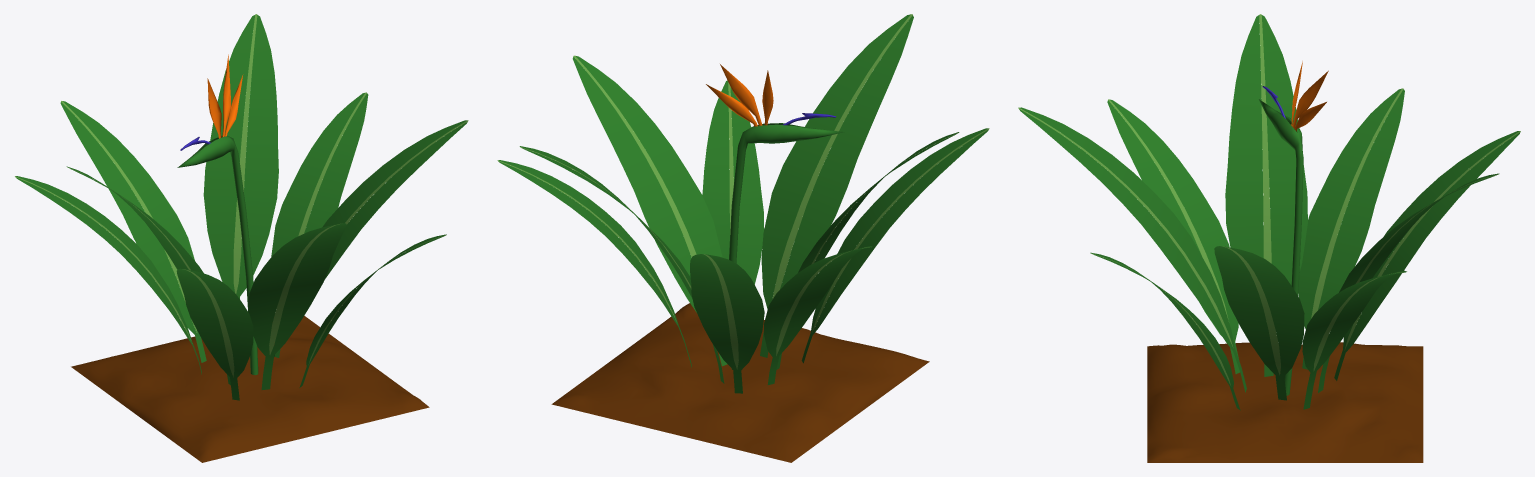
File: bird-of-paradise-p2-bloom.glb
The picture shows the model from 3 angles, left to right: view 1: azimuth 30°, elevation 25°; view 2: azimuth 150°, elevation 25°; view 3: azimuth 270°, elevation 25°; orthographic projection. The views are drawn at different scales.
Parts seen in each view (by area): view 1: 2_nft_bloom; view 2: 2_nft_bloom; view 3: 2_nft_bloom.
Boxes of the visible parts, bbox=[...] form: 2_nft_bloom: bbox=[15, 14, 468, 462]; 2_nft_bloom: bbox=[497, 14, 989, 462]; 2_nft_bloom: bbox=[1018, 14, 1520, 462].
Bounding box in the file's own units: 1.18 × 0.935 × 1.28.
